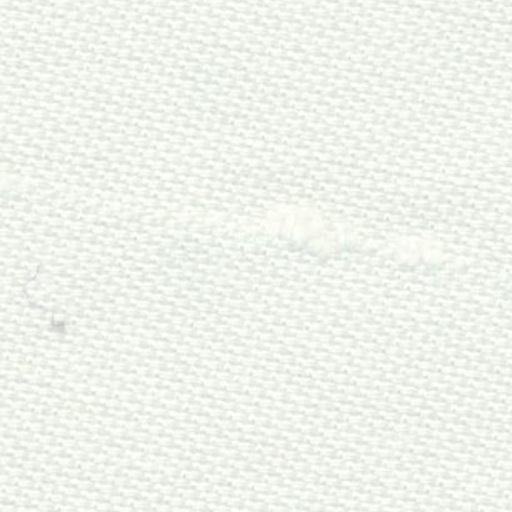DaiSha: (184, 176, 474, 287)
